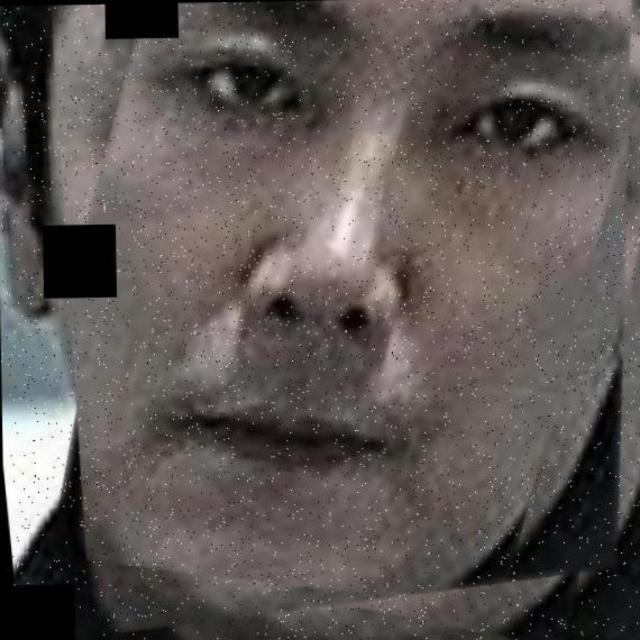angry: (108, 47, 597, 601)
